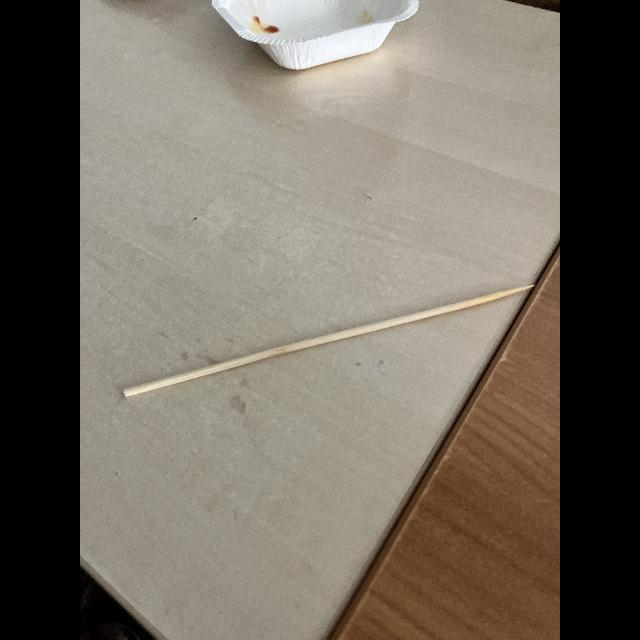cardboard_bowl: (200, 0, 436, 86)
stick: (117, 260, 548, 438)
